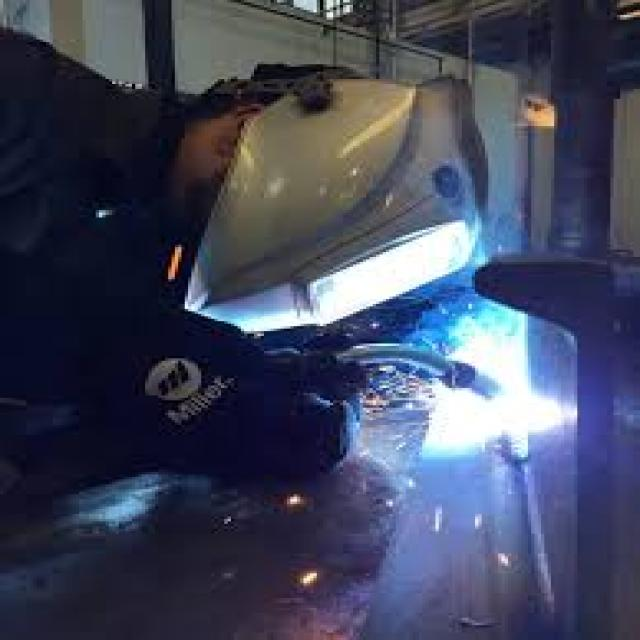welding: (497, 388, 564, 431)
